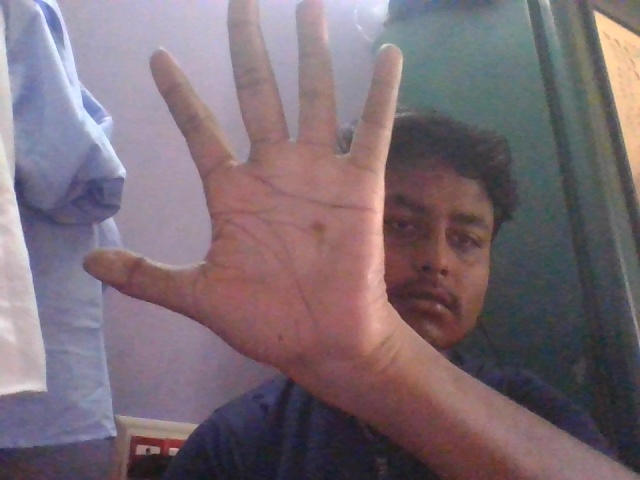hello: (43, 1, 496, 390)
